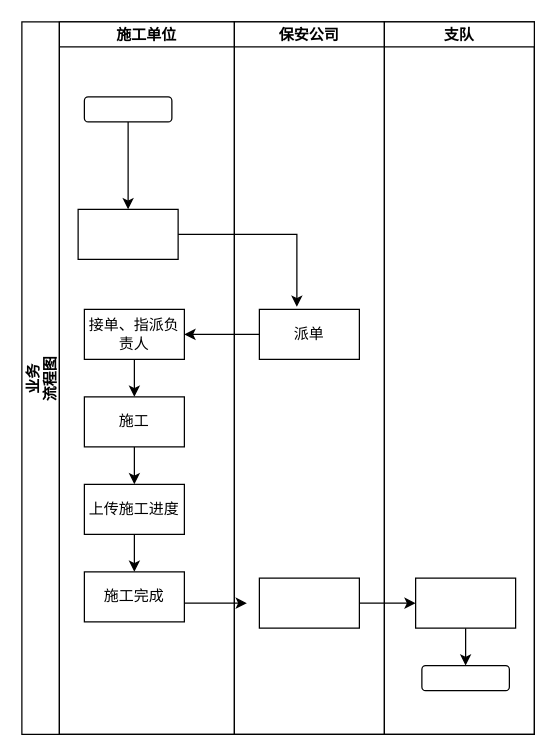
The diagram is 556 pixels wide and 756 high, and some of its shapes have lost their labels. Here are the shapes that lost their labels. From the top down, the centre of each, then its label:
[127,109]: 开始
[127,233]: 发起应急抢修单
[308,602]: 监理评估工程工作量和质量
[465,602]: 审核
[465,677]: 结束
